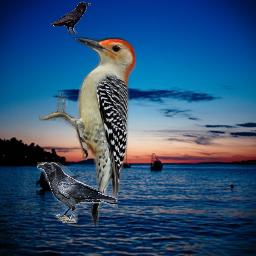Crow: (37, 162, 118, 223), (50, 1, 91, 34)
Woodpecker: (39, 37, 136, 227)
